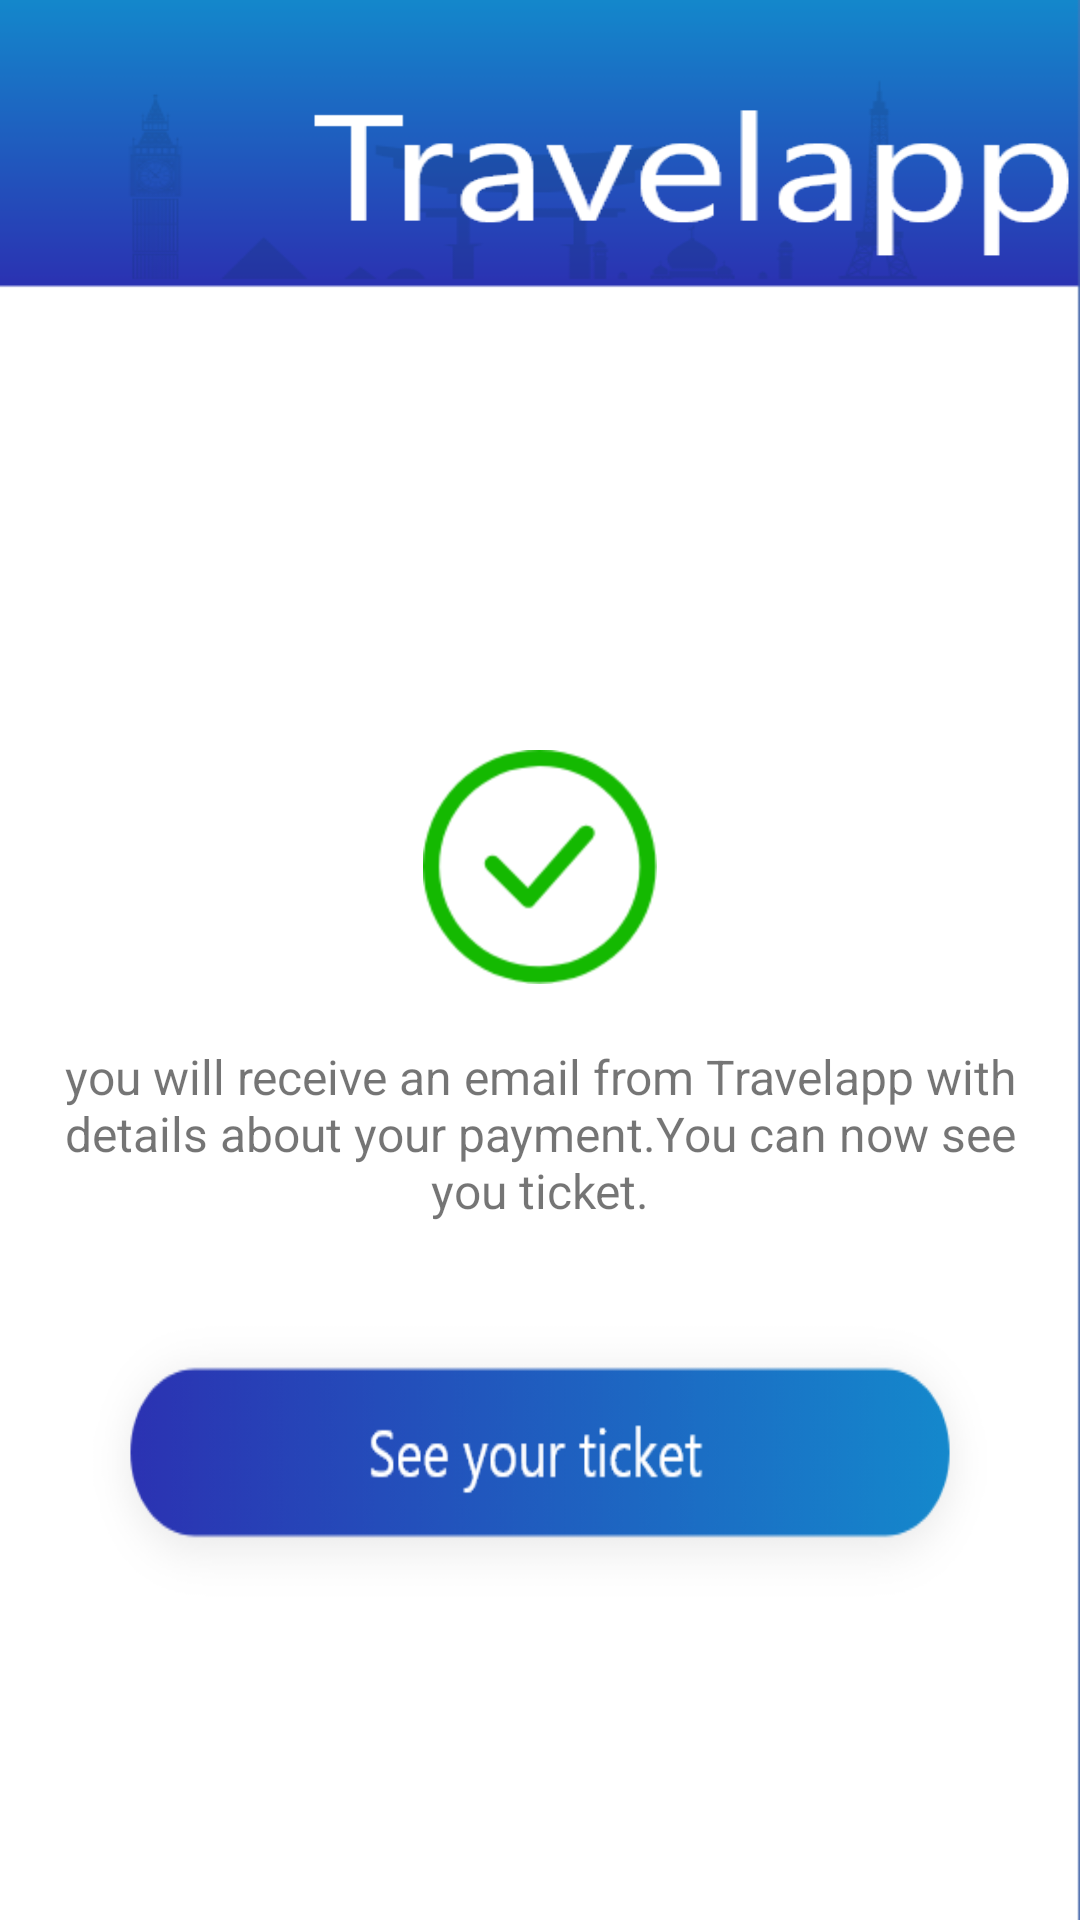

Named icons in this screenshot (1080*1920) and their centers, point (x, y):
success: point (540, 867)
